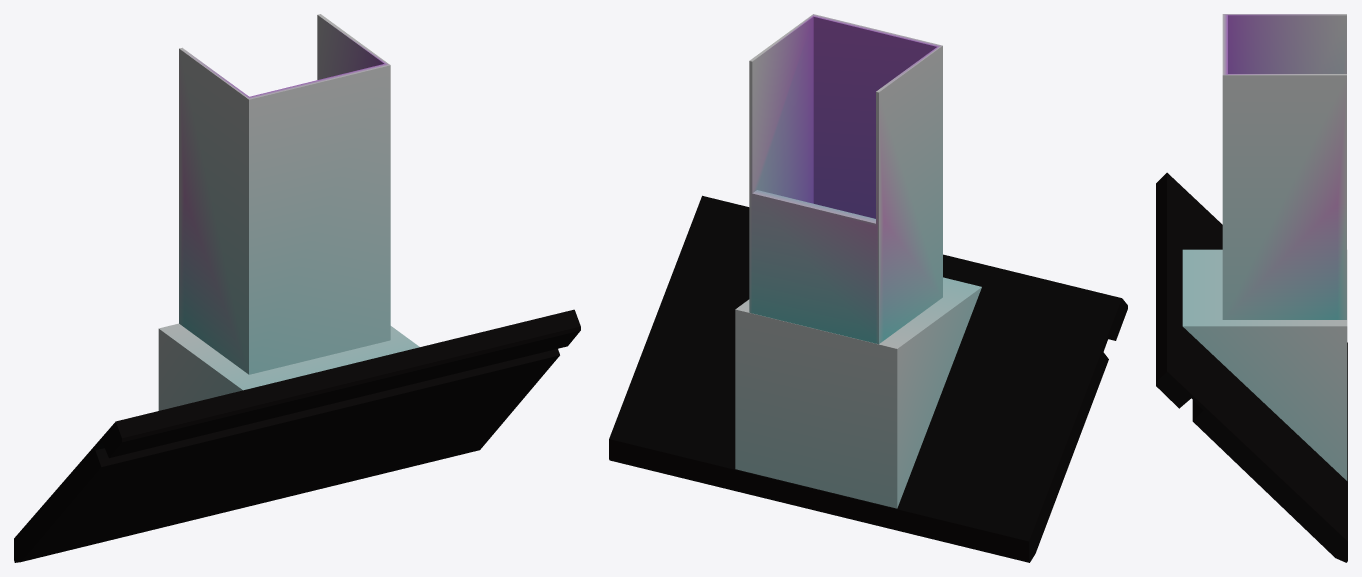
The picture shows the model from 3 angles, left to right: view 1: azimuth 30°, elevation 25°; view 2: azimuth 150°, elevation 25°; view 3: azimuth 270°, elevation 25°; orthographic projection. The views are drawn at different scales.
Parts seen in each view (by area): view 1: channel, plate, support; view 2: plate, channel, support; view 3: channel, plate, support.
Boxes of the visible parts, bbox=[...] form: channel: bbox=[179, 14, 390, 374]; plate: bbox=[14, 309, 580, 562]; support: bbox=[158, 323, 419, 410]; plate: bbox=[609, 195, 1127, 562]; channel: bbox=[749, 14, 942, 344]; support: bbox=[735, 277, 981, 508]; channel: bbox=[1222, 14, 1346, 319]; plate: bbox=[1156, 172, 1347, 562]; support: bbox=[1182, 249, 1347, 480].
Bounding box in the file's own units: 0.7 × 0.691 × 0.2851.
